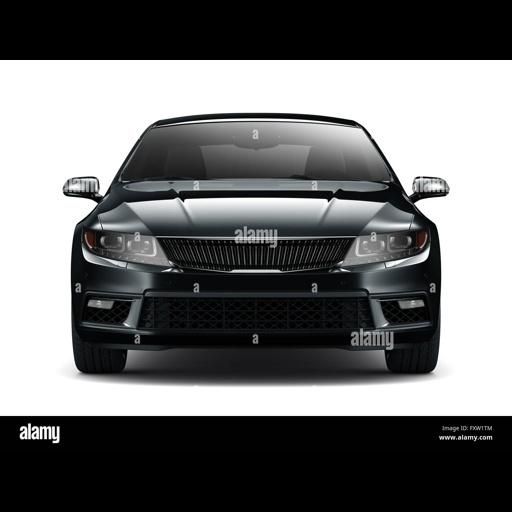sedan: (64, 114, 448, 371)
